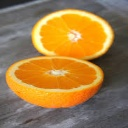orange: (5, 55, 106, 109)
